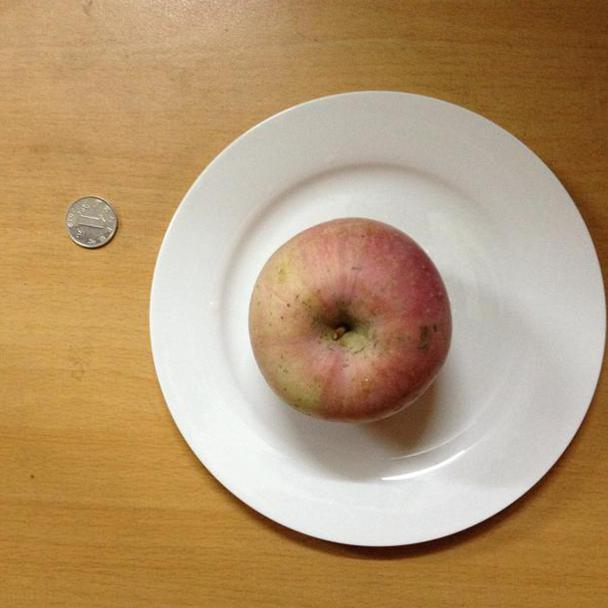apple: (246, 219, 453, 427)
